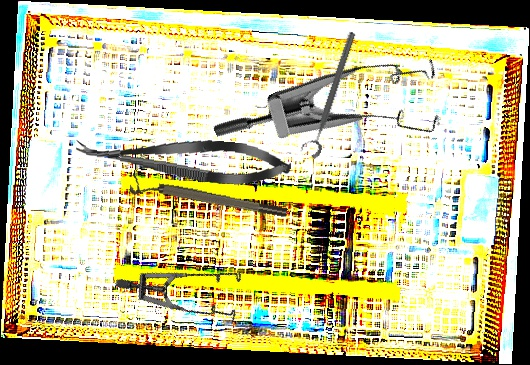Fixation Ring: (128, 172, 289, 227), (297, 28, 360, 161)
Micro Scissor: (73, 128, 293, 190)
Speculum: (211, 20, 462, 222), (113, 213, 261, 358)
